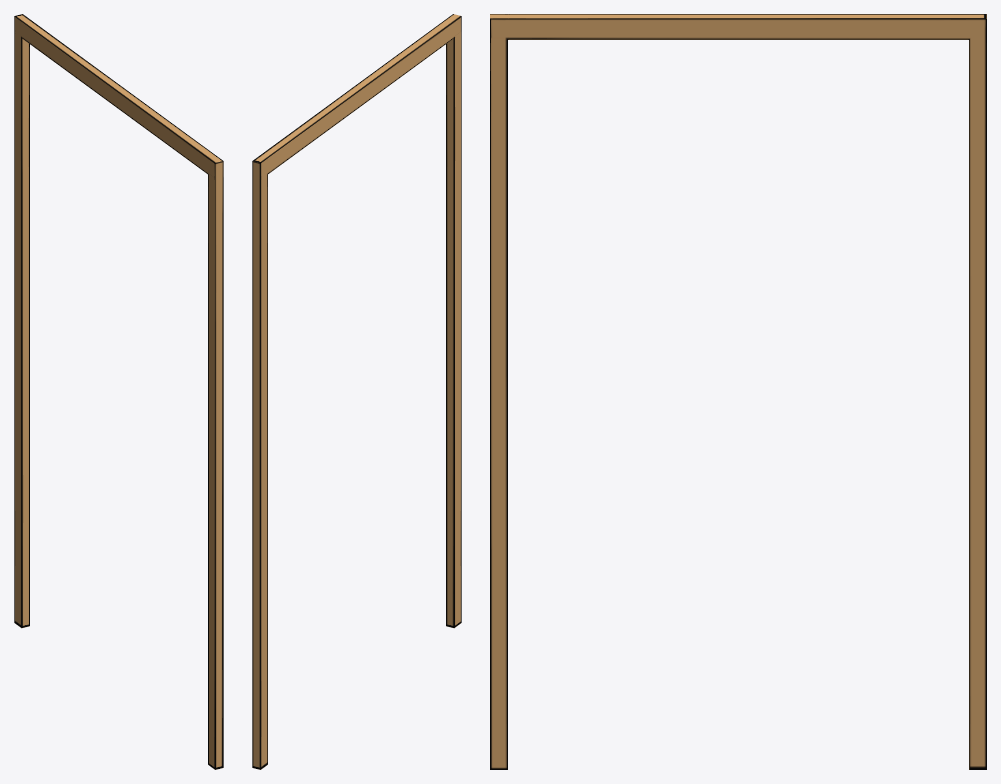
The model's file is outline_vending_machine_2.glb.
The picture shows the model from 3 angles, left to right: view 1: azimuth 30°, elevation 25°; view 2: azimuth 150°, elevation 25°; view 3: azimuth 270°, elevation 25°; orthographic projection. The views are drawn at different scales.
Parts seen in each view (by area): view 1: Outline Vending Machine 2; view 2: Outline Vending Machine 2; view 3: Outline Vending Machine 2.
Part boxes in pixels (x1,y1,x2,y2): Outline Vending Machine 2: (14, 14, 223, 769); Outline Vending Machine 2: (252, 14, 461, 769); Outline Vending Machine 2: (490, 14, 986, 769).
Bounding box in the file's own units: 0.0361 × 2.52 × 1.51.
Materials: 1 (1 with a texture image).
